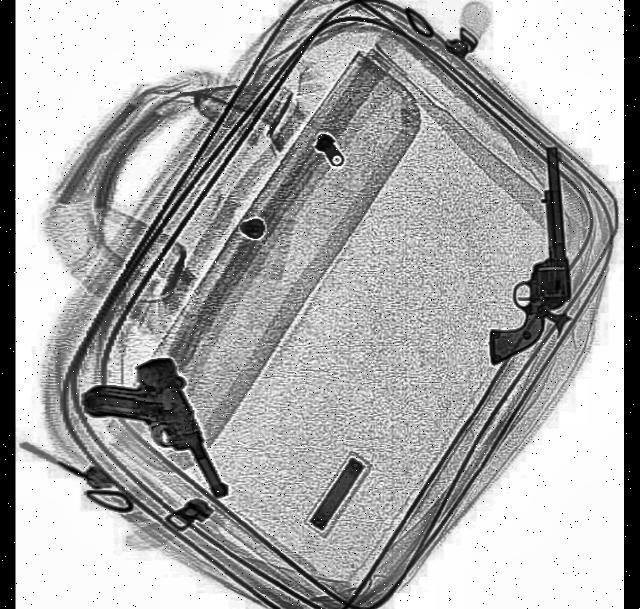Gun: (79, 346, 230, 544), (474, 146, 576, 364)
